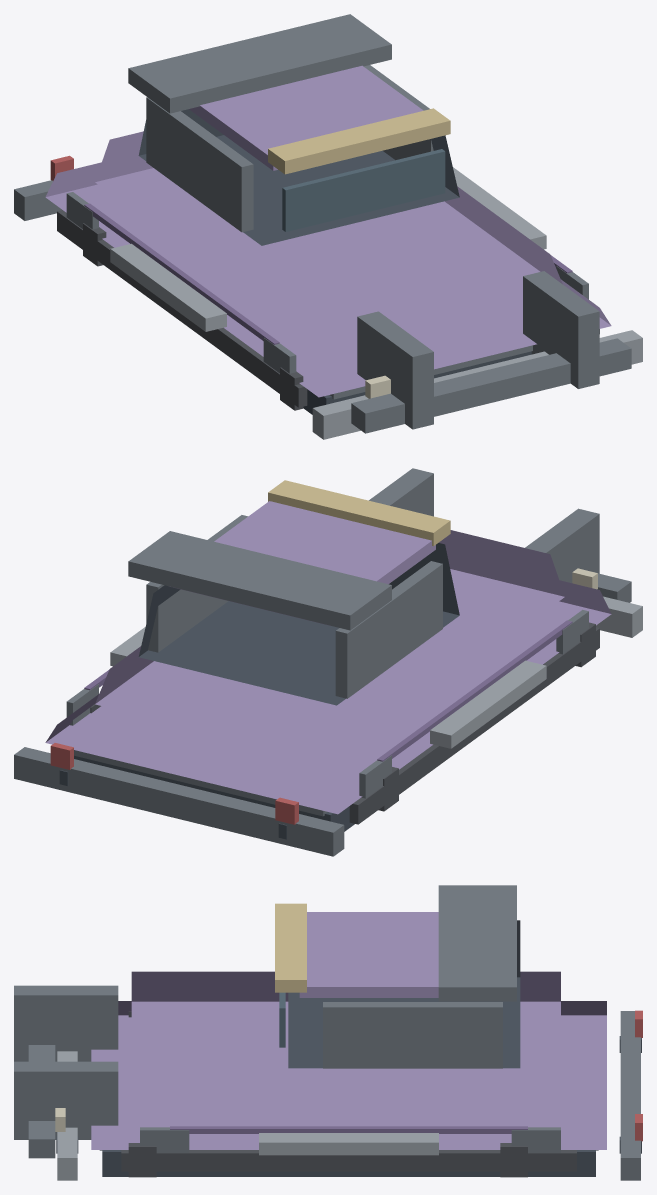
File: goliath.glb
3 views of the same model, one above another, from view 1: azimuth 30°, elevation 25°; view 2: azimuth 150°, elevation 25°; view 3: azimuth 270°, elevation 25° (orthographic). The views are drawn at different scales.
Visible parts, largest first — view 1: goliath_batch01, goliath_batch02, goliath_batch05, goliath_batch00, goliath_batch08, goliath_batch09, goliath_batch03, goliath_batch04; view 2: goliath_batch01, goliath_batch02, goliath_batch00, goliath_batch05, goliath_batch03, goliath_batch09, goliath_batch04, goliath_batch07; view 3: goliath_batch01, goliath_batch02, goliath_batch03, goliath_batch00, goliath_batch05, goliath_batch09, goliath_batch04, goliath_batch07.
Part boxes in pixels (x1=…): goliath_batch01: x1=45, y1=65, x2=611, y2=397; goliath_batch02: x1=14, y1=14, x2=631, y2=433; goliath_batch05: x1=110, y1=167, x2=642, y2=439; goliath_batch00: x1=138, y1=109, x2=531, y2=414; goliath_batch08: x1=282, y1=149, x2=445, y2=231; goliath_batch09: x1=268, y1=108, x2=450, y2=174; goliath_batch03: x1=57, y1=210, x2=599, y2=410; goliath_batch04: x1=84, y1=203, x2=572, y2=344; goliath_batch01: x1=45, y1=501, x2=611, y2=814; goliath_batch02: x1=14, y1=468, x2=631, y2=856; goliath_batch00: x1=59, y1=543, x2=459, y2=839; goliath_batch05: x1=110, y1=596, x2=642, y2=748; goliath_batch03: x1=90, y1=622, x2=599, y2=824; goliath_batch09: x1=268, y1=480, x2=450, y2=546; goliath_batch04: x1=84, y1=620, x2=572, y2=761; goliath_batch07: x1=50, y1=743, x2=298, y2=824; goliath_batch01: x1=91, y1=912, x2=606, y2=1149; goliath_batch02: x1=14, y1=885, x2=640, y2=1180; goliath_batch03: x1=121, y1=1011, x2=576, y2=1177; goliath_batch00: x1=56, y1=920, x2=641, y2=1176; goliath_batch05: x1=57, y1=1051, x2=438, y2=1180; goliath_batch09: x1=275, y1=903, x2=306, y2=992; goliath_batch04: x1=170, y1=1126, x2=527, y2=1133; goliath_batch07: x1=635, y1=1010, x2=642, y2=1141.
Size of the model in its own units: 6.39 by 3.42 by 10.84.
